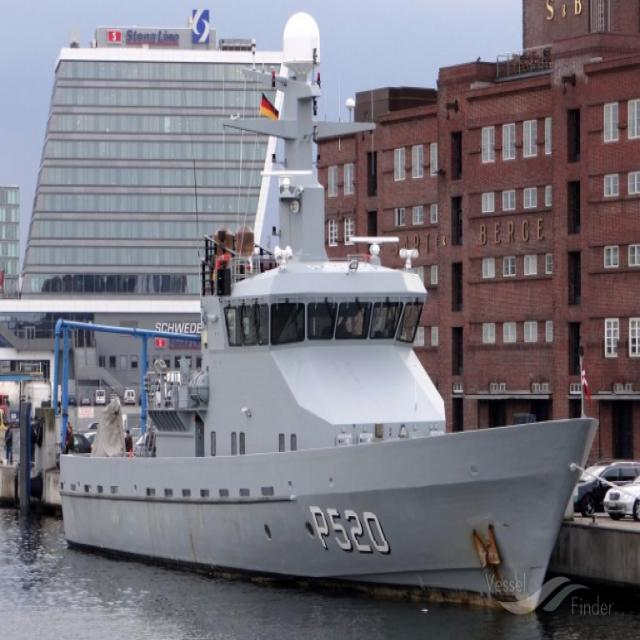OCR: (306, 498, 397, 560)
